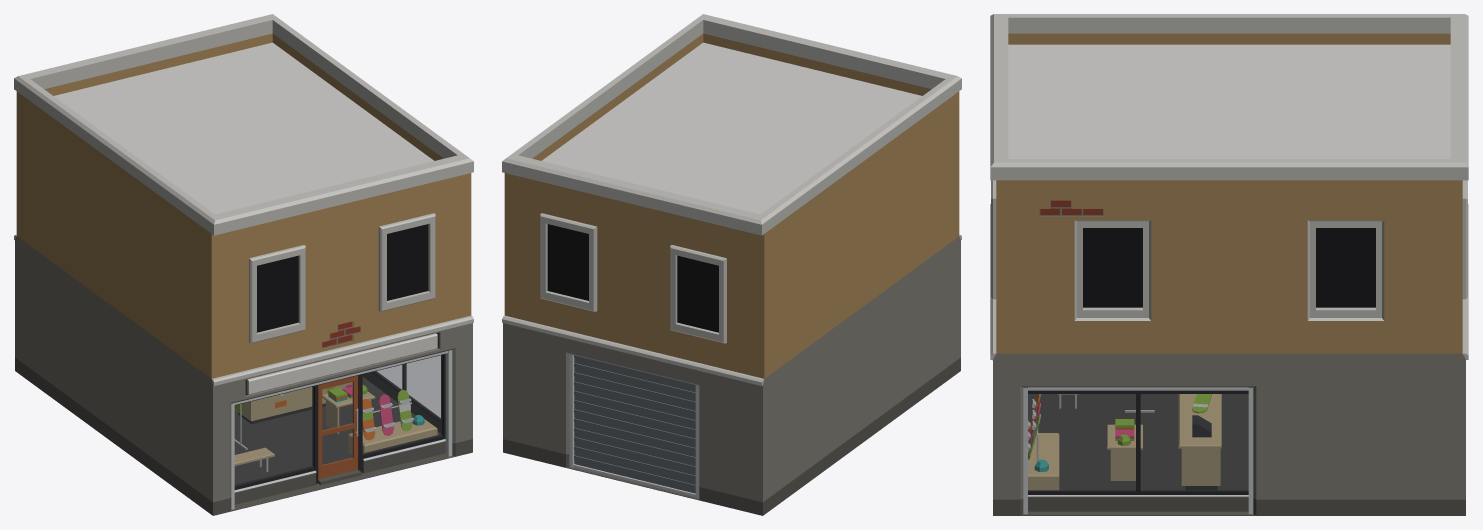
Rendered from skate-shop-bce146.glb.
The picture shows the model from 3 angles, left to right: view 1: azimuth 30°, elevation 25°; view 2: azimuth 150°, elevation 25°; view 3: azimuth 270°, elevation 25°; orthographic projection. The views are drawn at different scales.
Parts seen in each view (by area): view 1: shop, shop-glass, door-glass, door-leaf; view 2: shop; view 3: shop, shop-glass, counter-goods.
Boxes of the visible parts, <box> form: shop: <box>14,14,473,515</box>; shop-glass: <box>235,355,441,485</box>; door-glass: <box>322,382,352,464</box>; door-leaf: <box>318,375,358,478</box>; shop: <box>502,14,961,515</box>; shop: <box>990,14,1468,515</box>; shop-glass: <box>1028,394,1248,490</box>; counter-goods: <box>1192,394,1211,437</box>.
Size of the model in its own units: 6 by 6.5 by 8.
